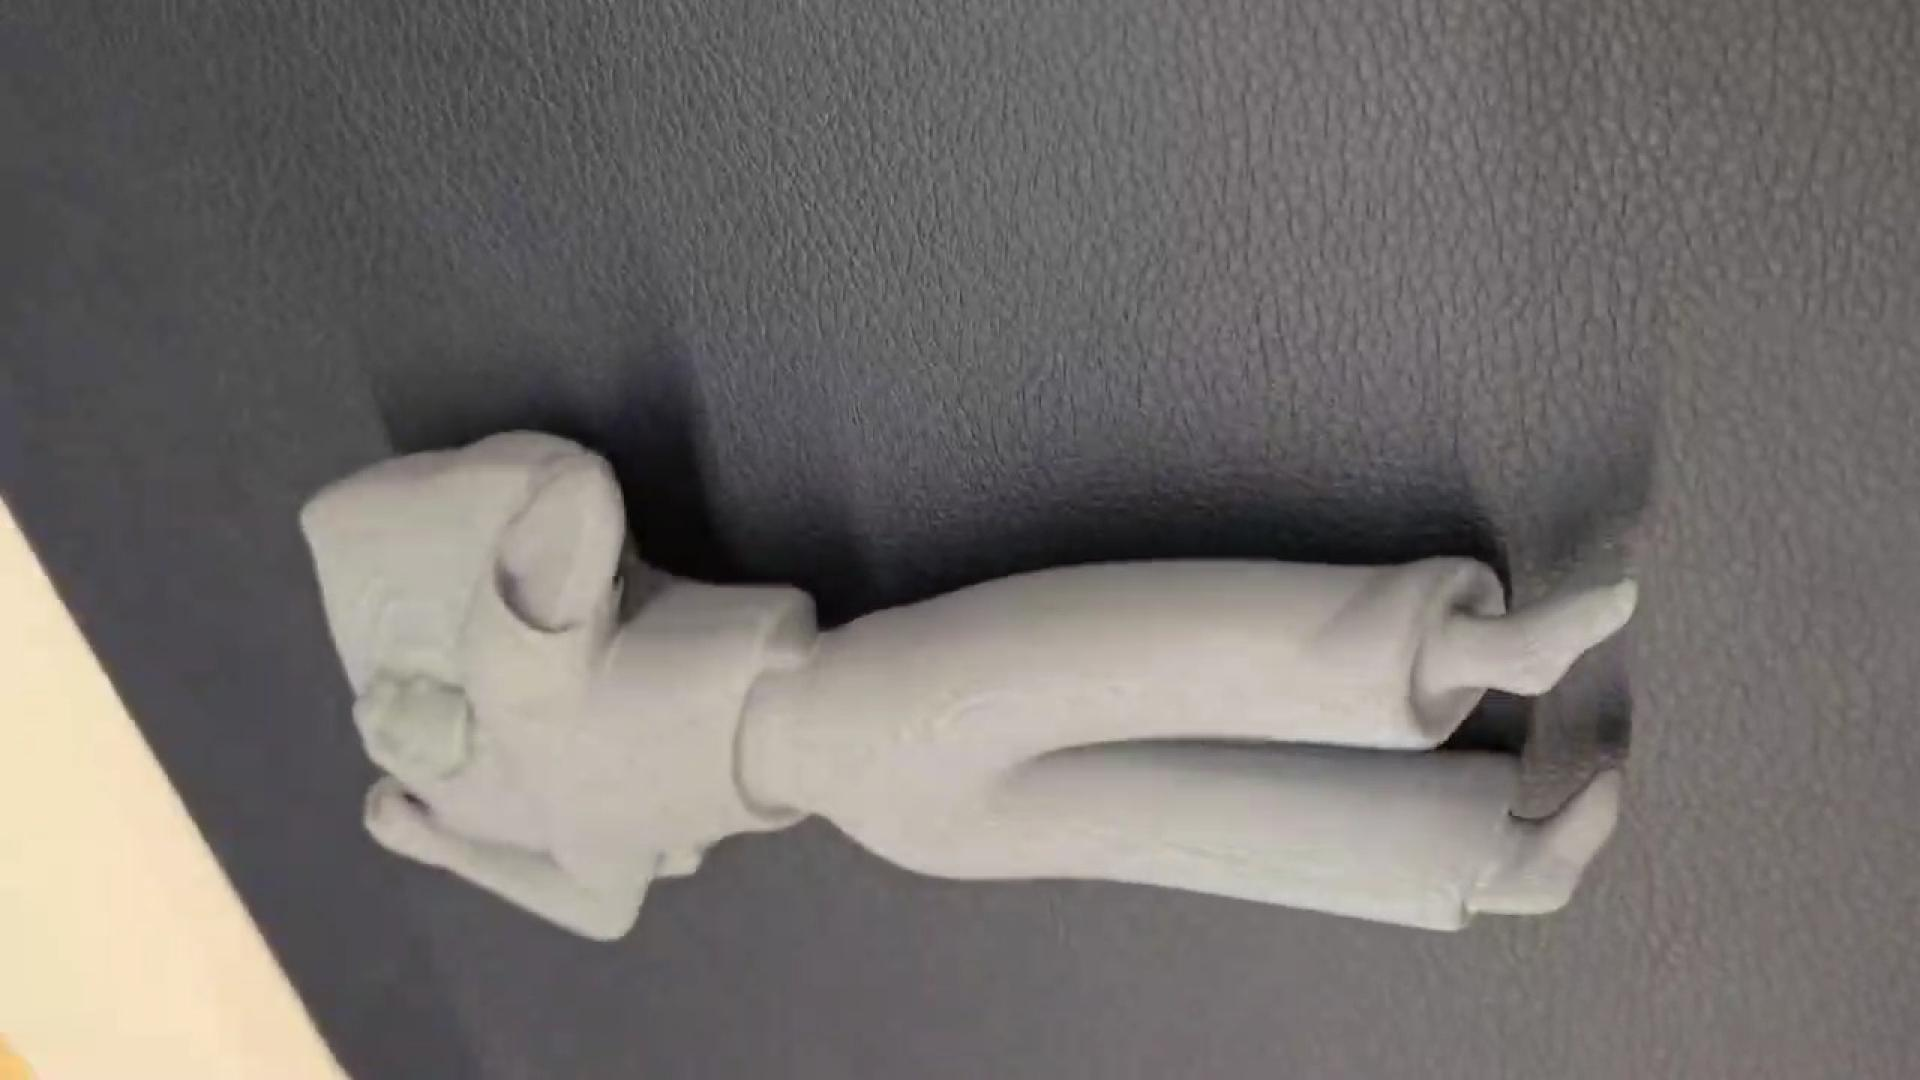Bad-style: (301, 430, 1631, 957)
